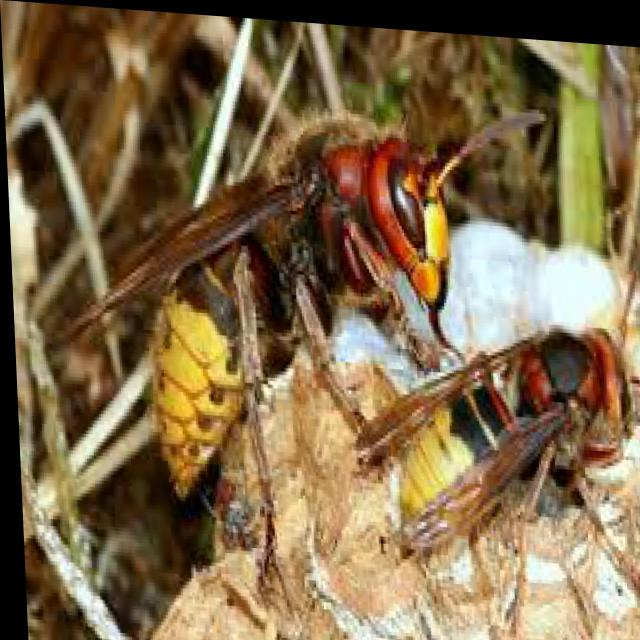Vespa Crabro: (70, 70, 464, 565), (340, 258, 639, 583)
